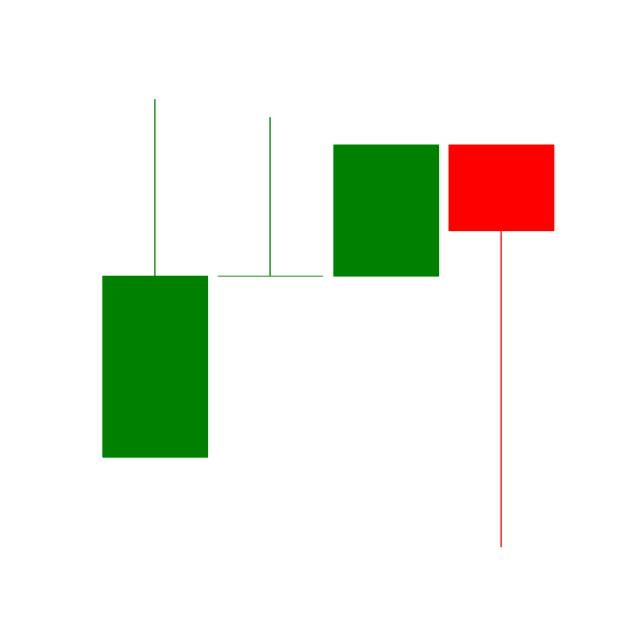Bullish Marubozu: (334, 145, 439, 277)
Gravenstone Doji: (216, 110, 324, 286)
Hanging Man: (445, 141, 558, 552)
Inverted Hammer: (99, 95, 211, 459)
